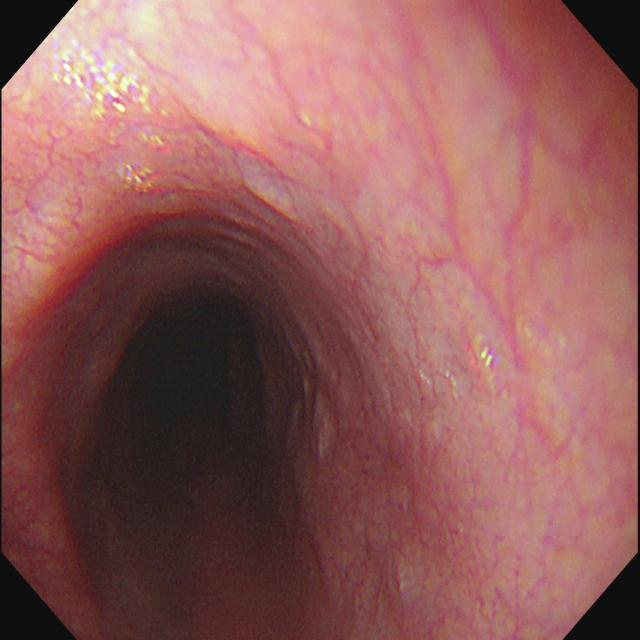E: (44, 246, 350, 619)
T: (51, 39, 167, 202), (471, 332, 509, 400)
